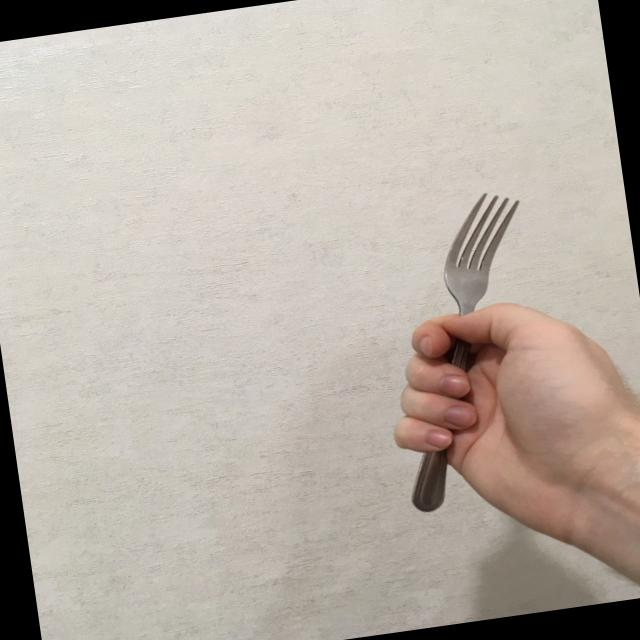fork: (368, 188, 562, 516)
